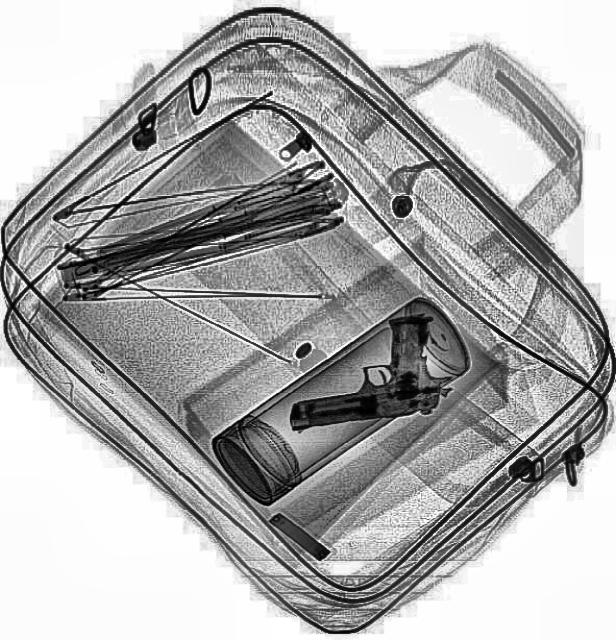Gun: (275, 310, 459, 432)
